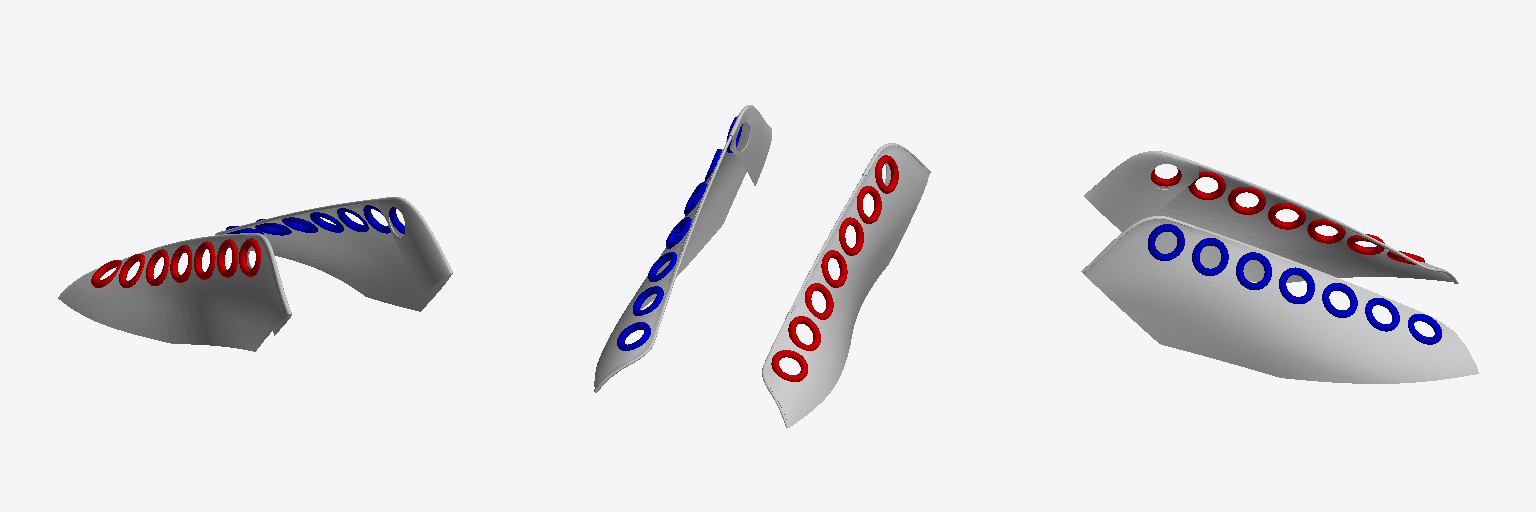
Rendered from stansmith_upper.obj.
3 renders of one model, left to right at view 1: azimuth 30°, elevation 25°; view 2: azimuth 150°, elevation 25°; view 3: azimuth 270°, elevation 25°, orthographic.
Visible parts, largest first — view 1: Stan_Smith_Simplified_Upper.Ori.011, Stan_Smith_Simplified_Upper.Ori.008, Torus.050; view 2: Stan_Smith_Simplified_Upper.Ori.011, Stan_Smith_Simplified_Upper.Ori.008, Torus.040, Torus.042, Torus.048, Torus.052, Torus.044, Torus.046, Torus.050, Torus.039; view 3: Stan_Smith_Simplified_Upper.Ori.008, Stan_Smith_Simplified_Upper.Ori.011, Torus.049, Torus.047, Torus.051, Torus.045, Torus.043, Torus.041, Torus.048, Torus.039, Torus.046, Torus.044.
Boxes of the visible parts, <box> form: Stan_Smith_Simplified_Upper.Ori.011: <box>58,233,291,351</box>; Stan_Smith_Simplified_Upper.Ori.008: <box>215,197,452,311</box>; Torus.050: <box>217,239,237,277</box>; Stan_Smith_Simplified_Upper.Ori.011: <box>762,143,930,427</box>; Stan_Smith_Simplified_Upper.Ori.008: <box>594,105,771,392</box>; Torus.040: <box>771,350,807,381</box>; Torus.042: <box>788,316,820,350</box>; Torus.048: <box>839,217,863,255</box>; Torus.052: <box>875,155,898,193</box>; Torus.044: <box>805,283,833,319</box>; Torus.046: <box>821,250,847,287</box>; Torus.050: <box>857,186,881,223</box>; Torus.039: <box>617,322,650,350</box>; Stan_Smith_Simplified_Upper.Ori.008: <box>1081,216,1478,383</box>; Stan_Smith_Simplified_Upper.Ori.011: <box>1084,151,1458,283</box>; Torus.049: <box>1192,238,1228,275</box>; Torus.047: <box>1236,252,1271,289</box>; Torus.051: <box>1148,224,1184,260</box>; Torus.045: <box>1279,267,1314,303</box>; Torus.043: <box>1322,283,1357,317</box>; Torus.041: <box>1365,298,1399,331</box>; Torus.048: <box>1228,187,1265,214</box>; Torus.039: <box>1408,314,1441,344</box>; Torus.046: <box>1268,203,1305,229</box>; Torus.044: <box>1307,219,1345,243</box>.
Bounding box in the file's own units: 1.01 × 0.7002 × 1.55.